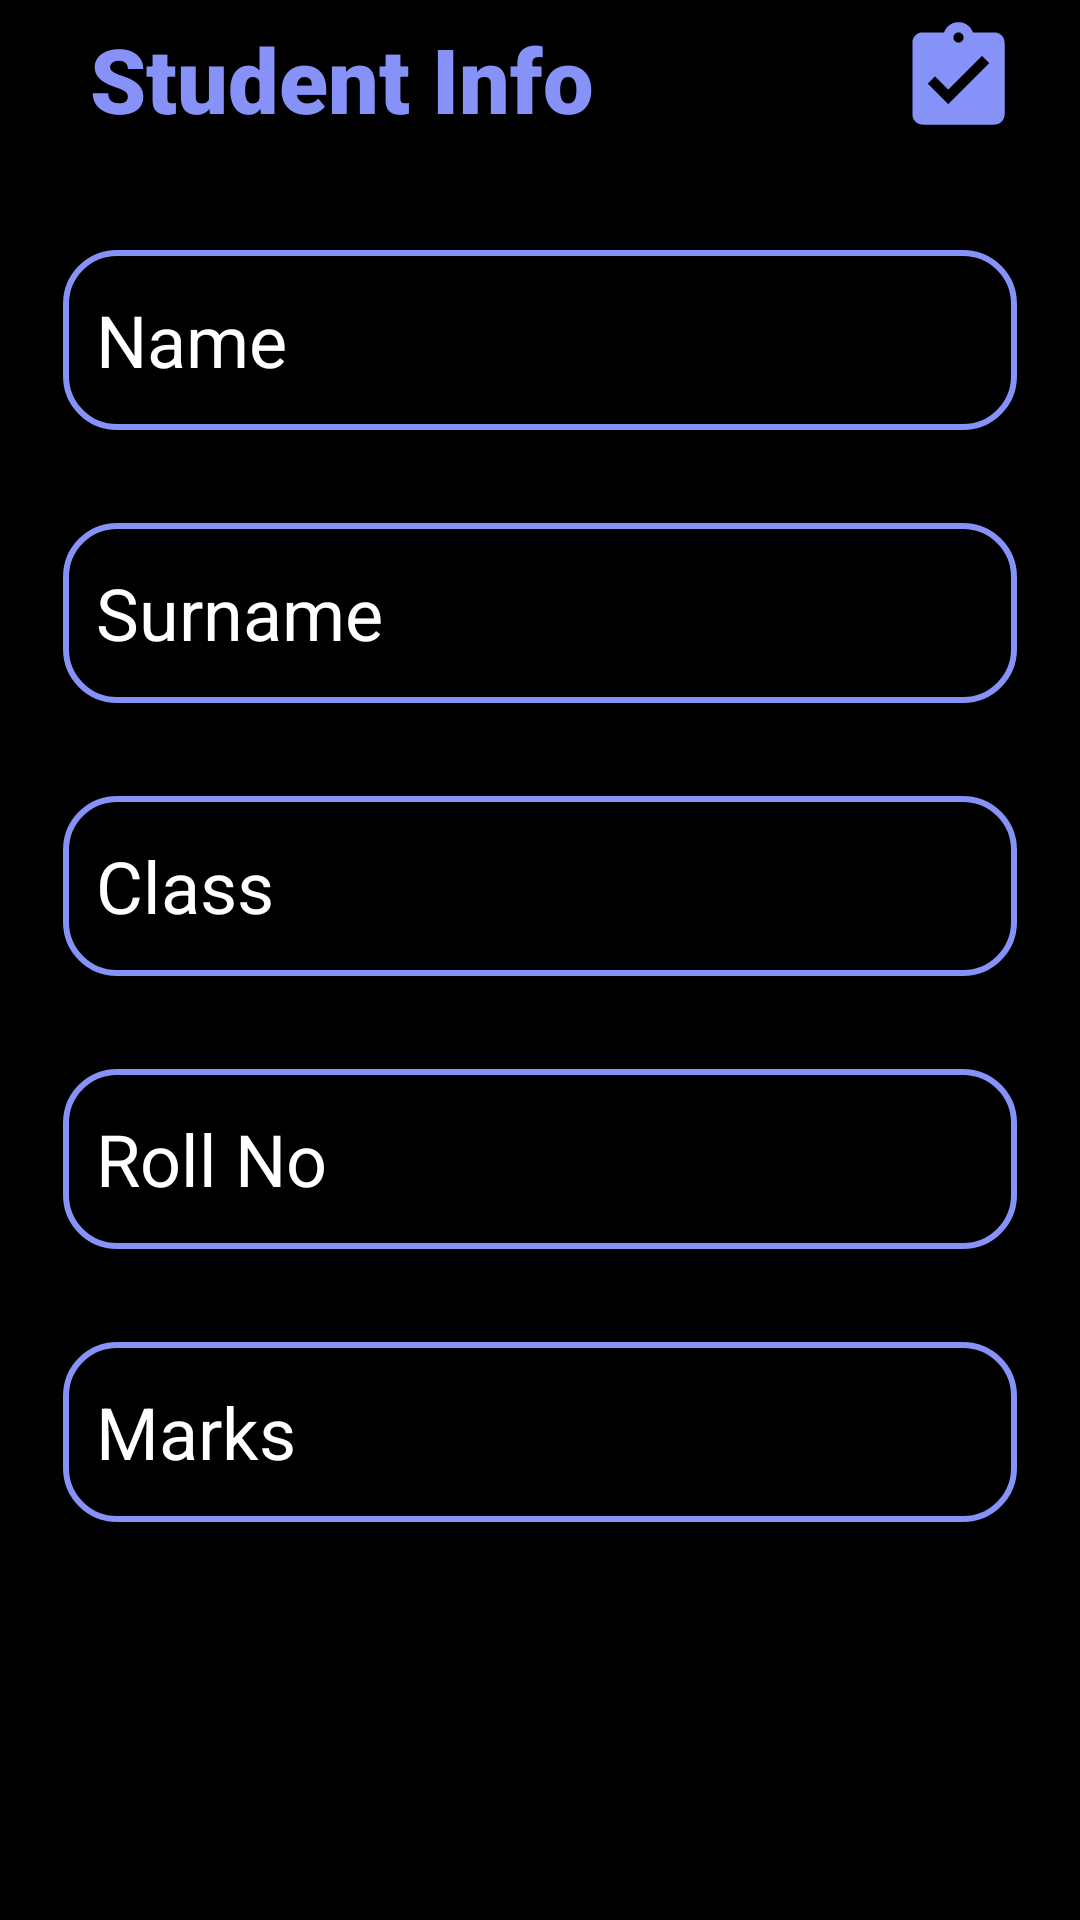

Where icons sit on this 1080px×1920px app screen, as [left=x1, top=y1, right=x2, bottom=y2]:
assignment turned in: [left=912, top=22, right=1005, bottom=125]
